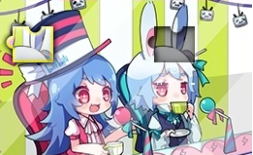gap: (149, 26, 194, 62)
